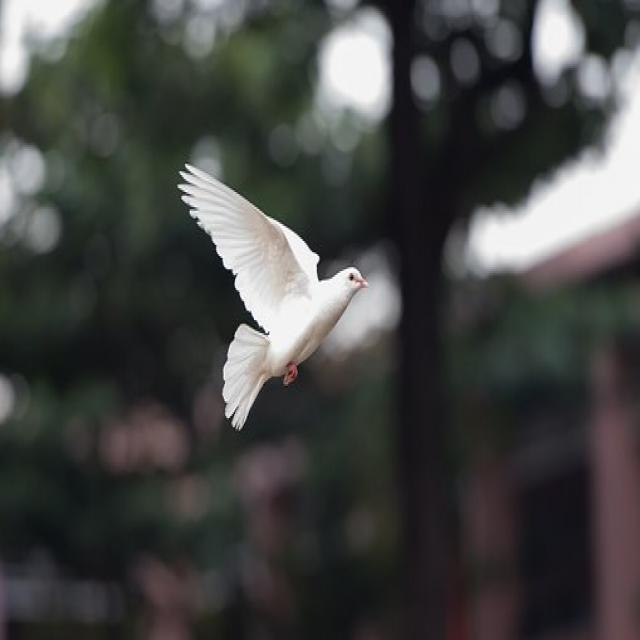birds: (171, 145, 374, 444)
